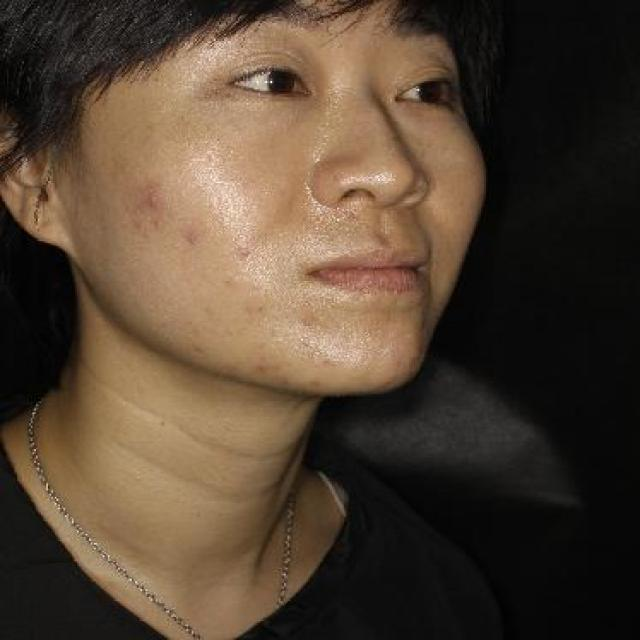papules: (138, 189, 168, 214), (235, 242, 260, 260)
